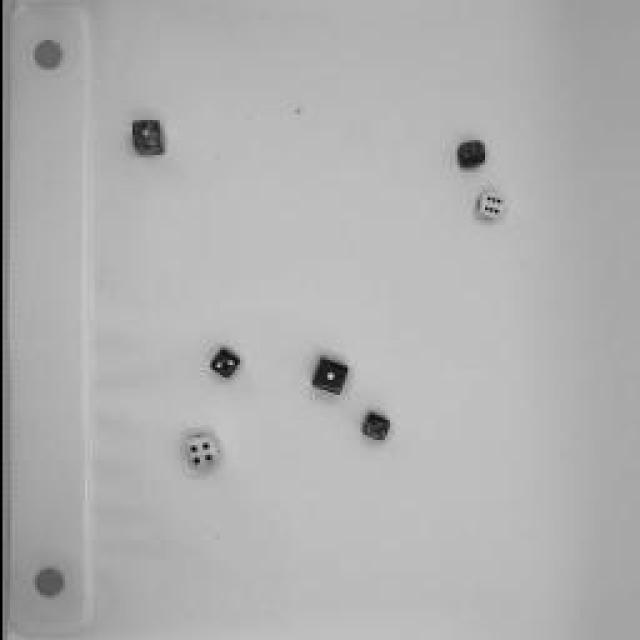dice_1: (125, 110, 165, 165), (304, 355, 348, 397)
dice_2: (201, 345, 239, 385)
dice_4: (180, 431, 220, 471)
dice_5: (355, 407, 390, 445)
dice_6: (467, 186, 505, 226), (450, 136, 488, 172)
